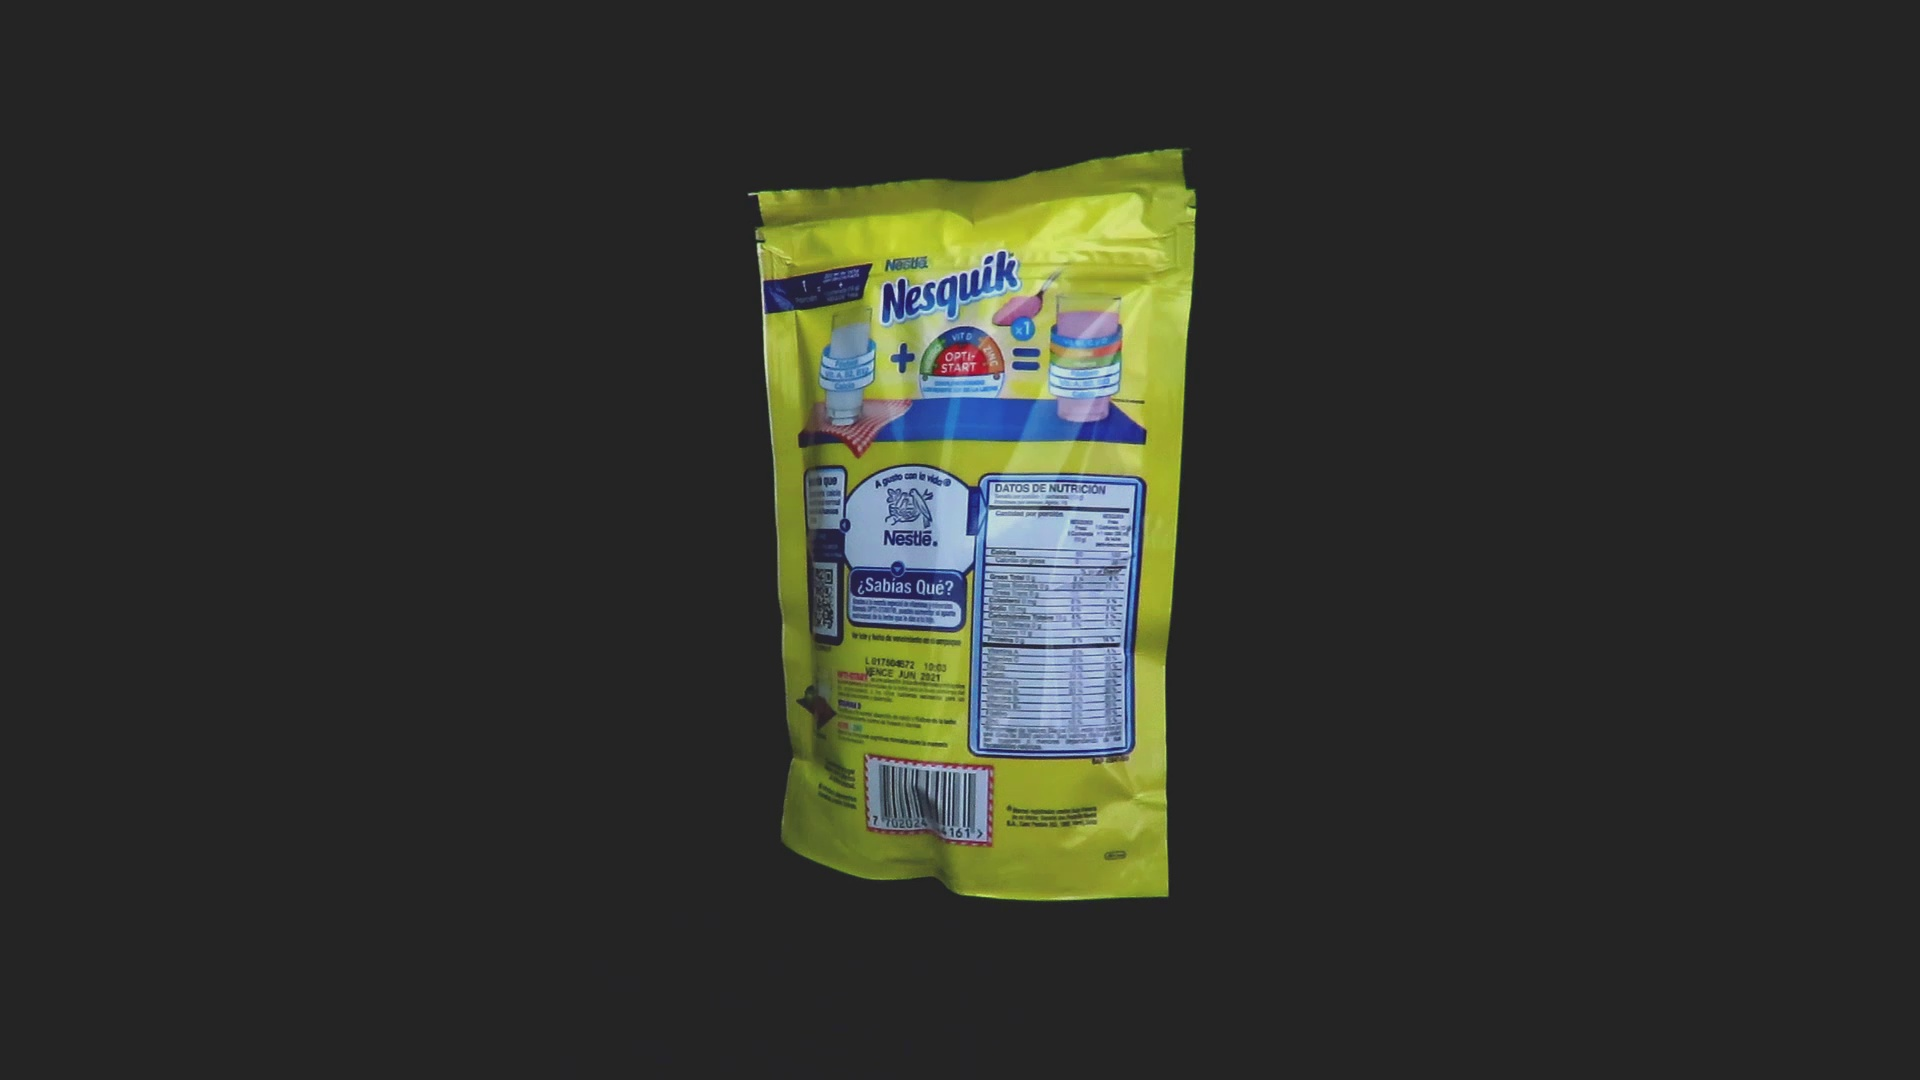COL0170305DYP20000: (742, 144, 1203, 907)
